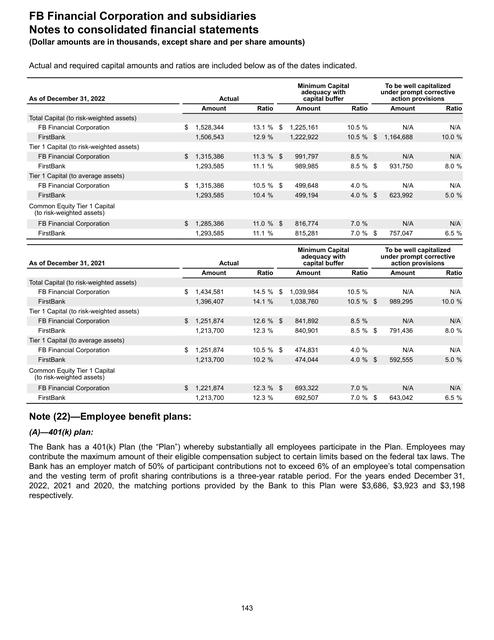box: (25, 74, 464, 242), (25, 242, 466, 407)
